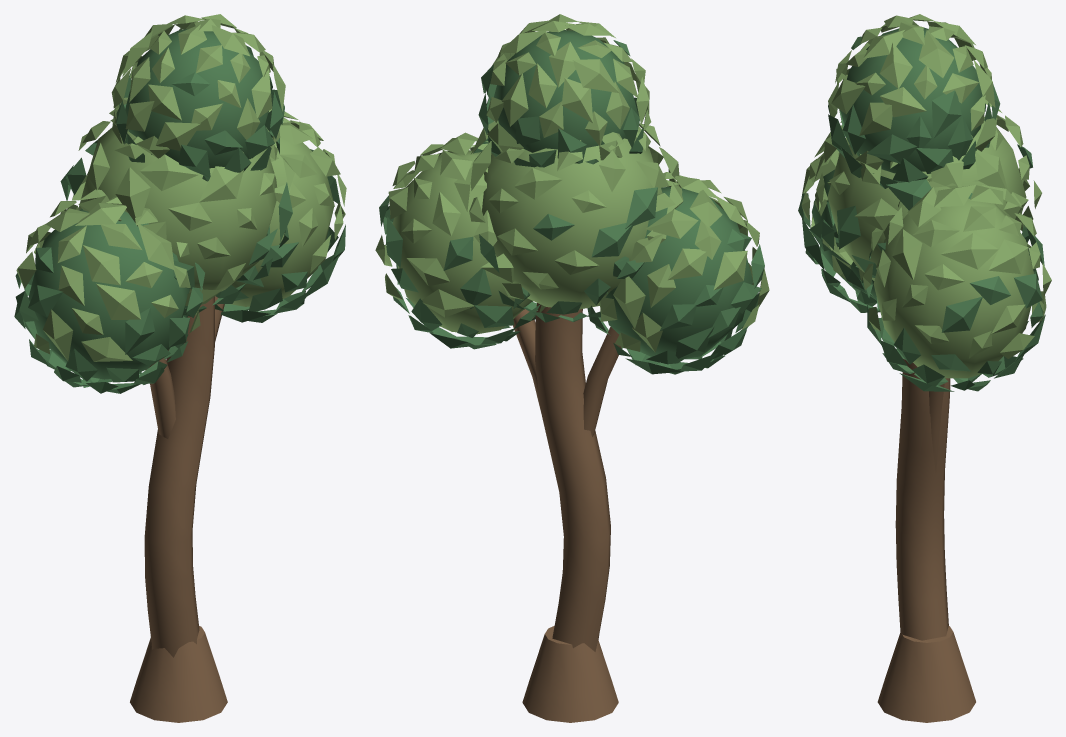
Rendered from tree.round-lod.glb.
The picture shows the model from 3 angles, left to right: view 1: azimuth 30°, elevation 25°; view 2: azimuth 150°, elevation 25°; view 3: azimuth 270°, elevation 25°; orthographic projection. The views are drawn at different scales.
Parts seen in each view (by area): view 1: Root flare; view 2: Root flare; view 3: Root flare.
Boxes of the visible parts, box(x1,y1,x2,y2) form: Root flare: box(14, 14, 346, 722); Root flare: box(375, 14, 769, 722); Root flare: box(798, 14, 1051, 722).
Size of the model in its own units: 1.14 by 2.15 by 0.7199.
